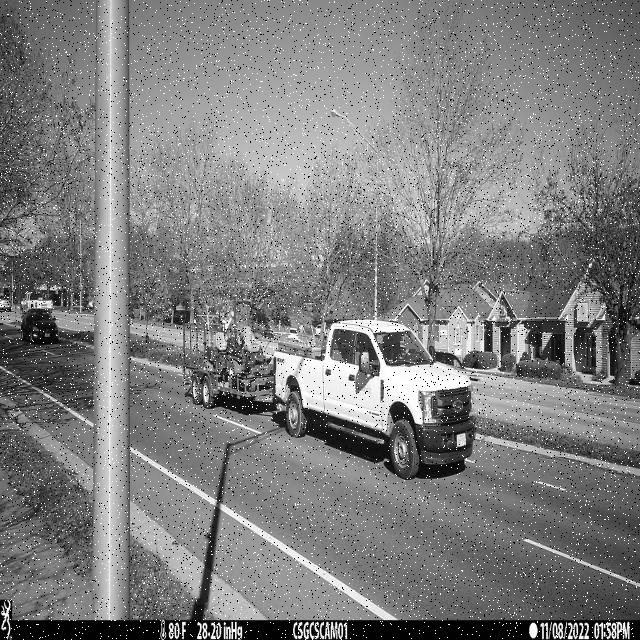Box Truck: (183, 321, 274, 409)
Pickup: (273, 319, 478, 481)
